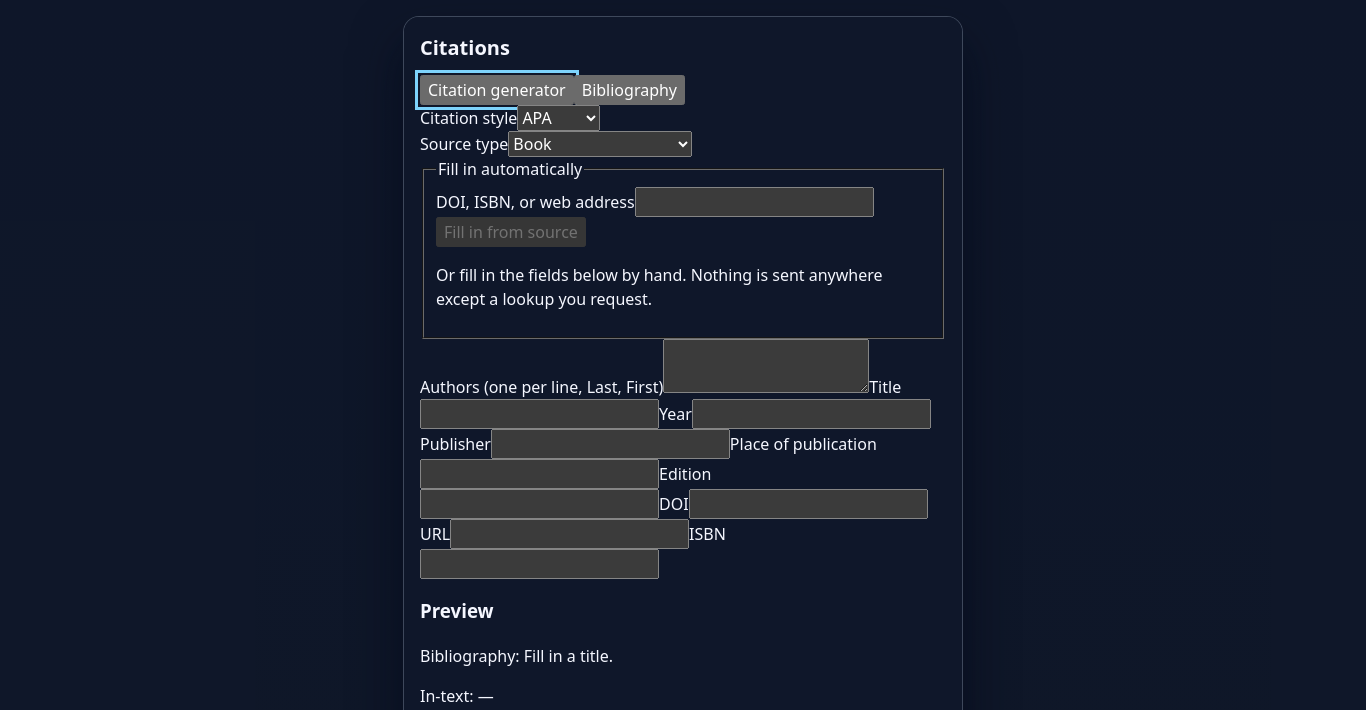
it: CitationDialog › fills fields from a DOI lookup
The width and height of the screenshot is (1366, 710).
Type "10.1000/xyz123" into the field labelled "DOI, ISBN, or web address" at (754, 202), box [635,187,874,217]
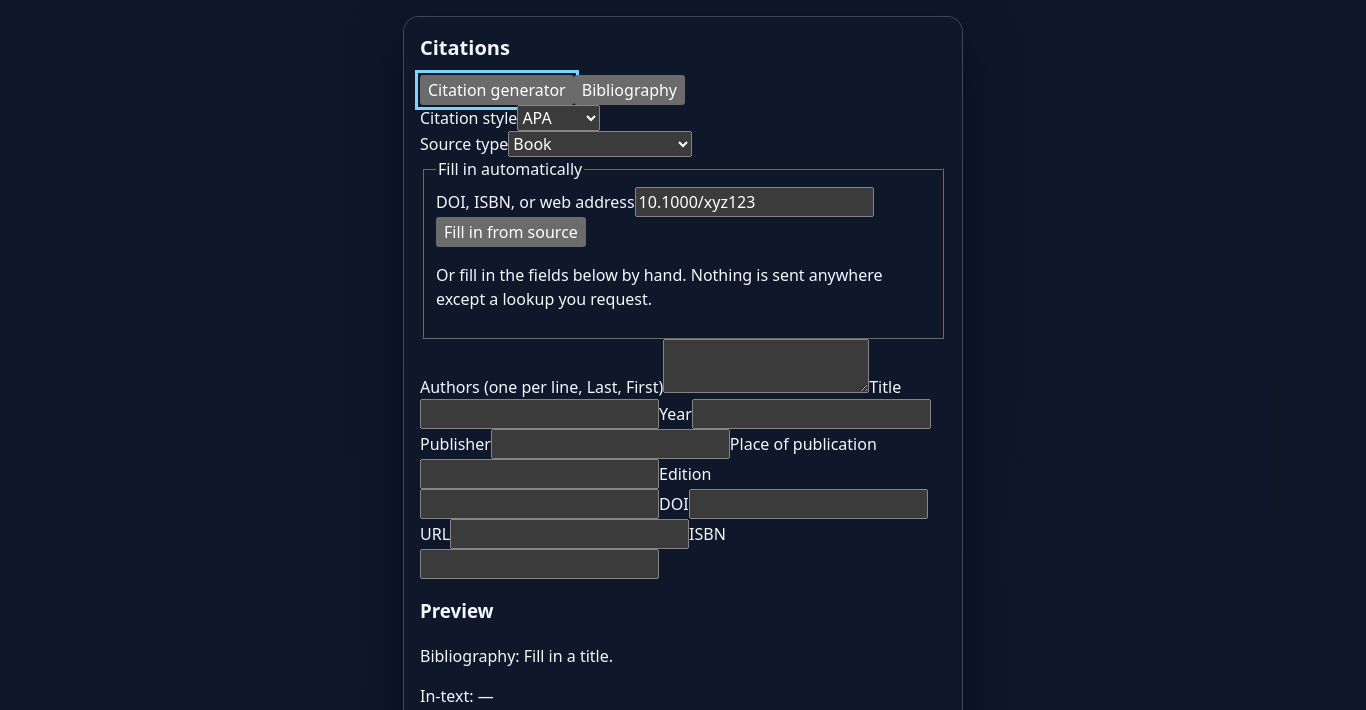
Click the button "Fill in from source" at (511, 232), box [436,217,586,247]
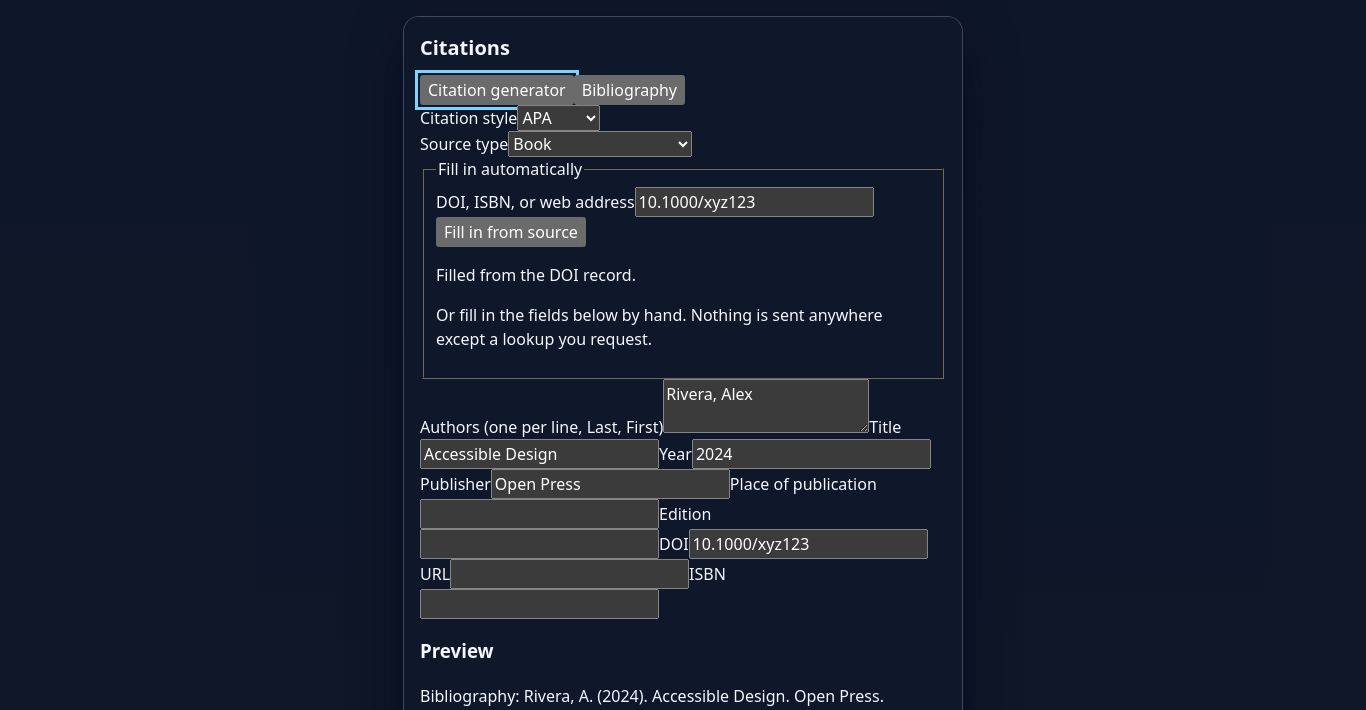
Now the text "Filled from the DOI record." is shown, box [436,264,636,286]
Now the field labelled "Title" holds "Accessible Design", box [420,439,659,469]
